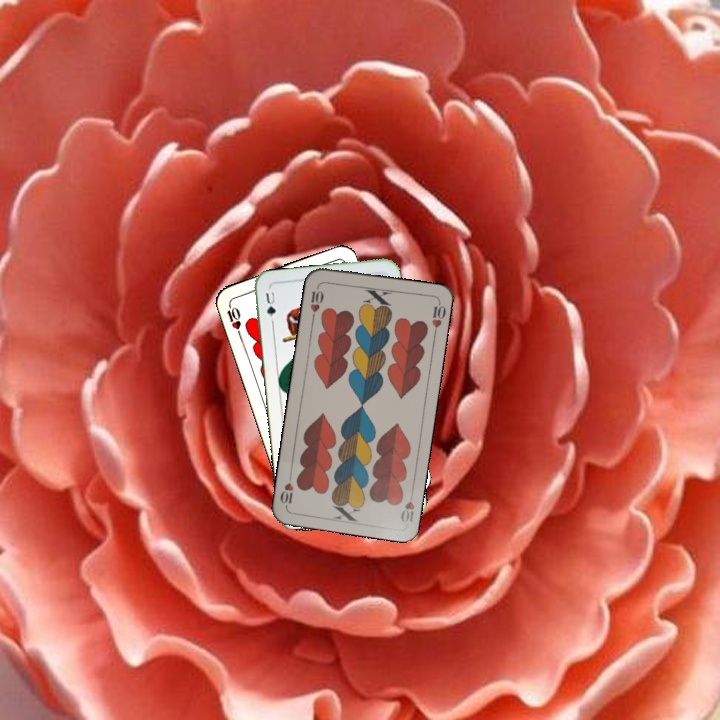GU: (261, 287, 279, 319)
H10: (223, 298, 244, 338), (306, 281, 326, 322), (396, 486, 417, 525)
